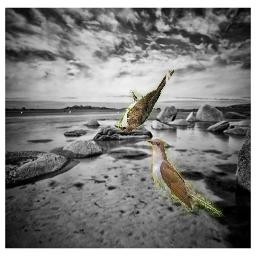Cuckoo: (147, 139, 226, 218), (114, 70, 174, 133)
